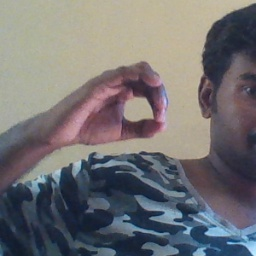O: (43, 60, 171, 150)
